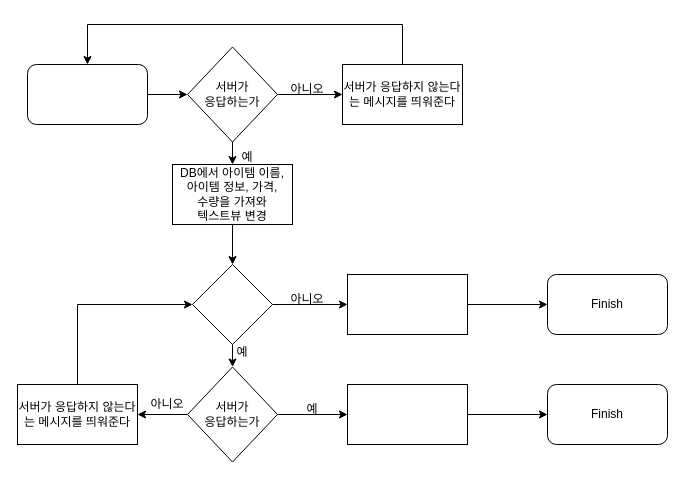
This 685x480 diagram has some shape labels left out. The shapes that lost their labels are listed below. From the top down, each one's centre as x and y in pixels, then its label:
(x=87, y=94): start
(x=232, y=304): 삭제하기 버튼 터치
(x=407, y=304): 판매중인 아이템 화면으로 이동
(x=407, y=414): DB에 삭제하려는 아이템 정보 전송
